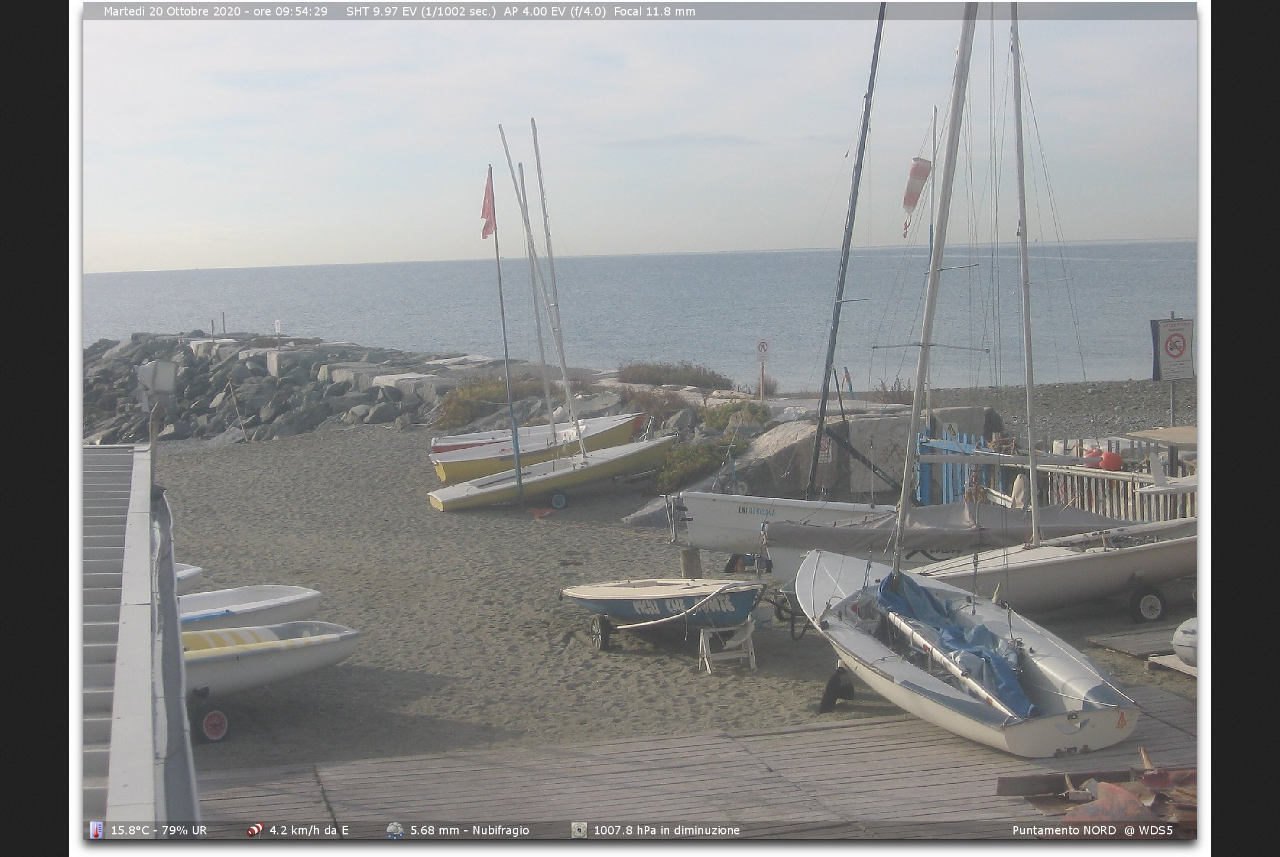no: (481, 163, 496, 240)
